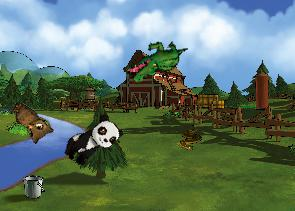crocodile: (123, 27, 189, 95)
owl: (2, 100, 56, 148)
panda: (59, 110, 125, 172)
